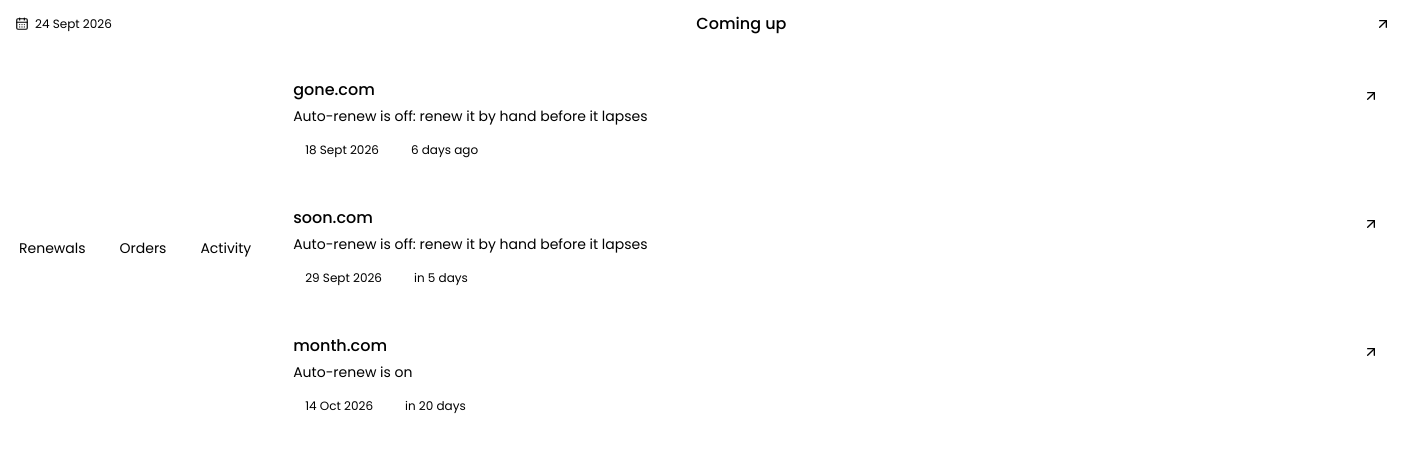
Test case: ComingUp › describes the latest events in words, each linked to its domain’s activity
Step 1. Click the tab "Activity" → (226, 248), box [186,230,265,266]
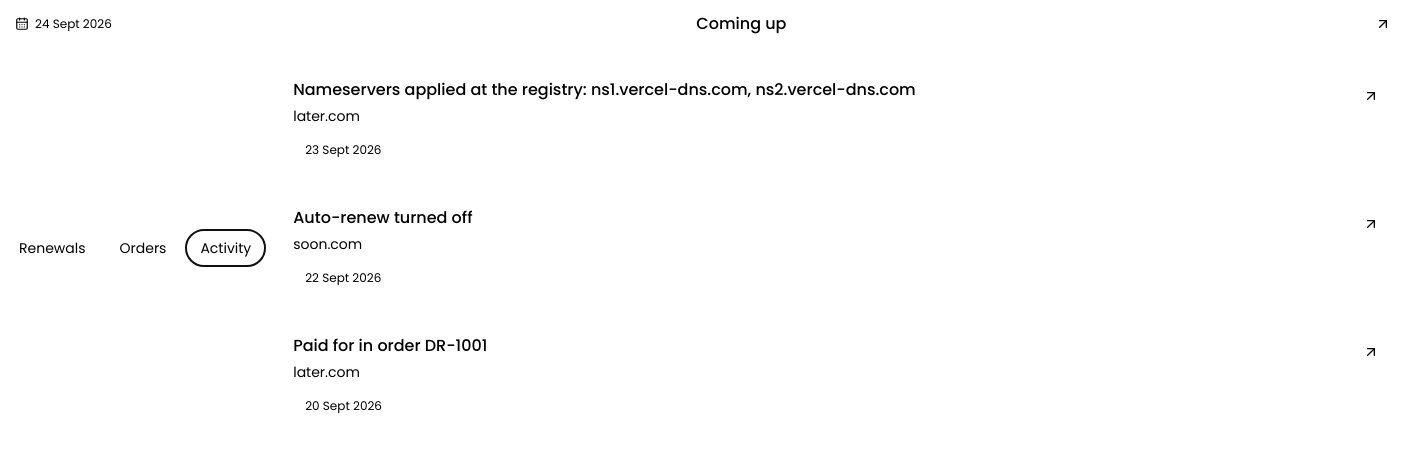
Expected: the 1st list item shows "Nameservers applied at the registry: ns1.vercel-dns.com, ns2.vercel-dns.com", [293,78,916,101]
Expected: the list item "Auto-renew turned off soon.com 22 Sept 2026" is shown, [277,190,1405,306]
Expected: the list item "Paid for in order DR-1001 later.com 20 Sept 2026" is shown, [277,318,1405,434]
